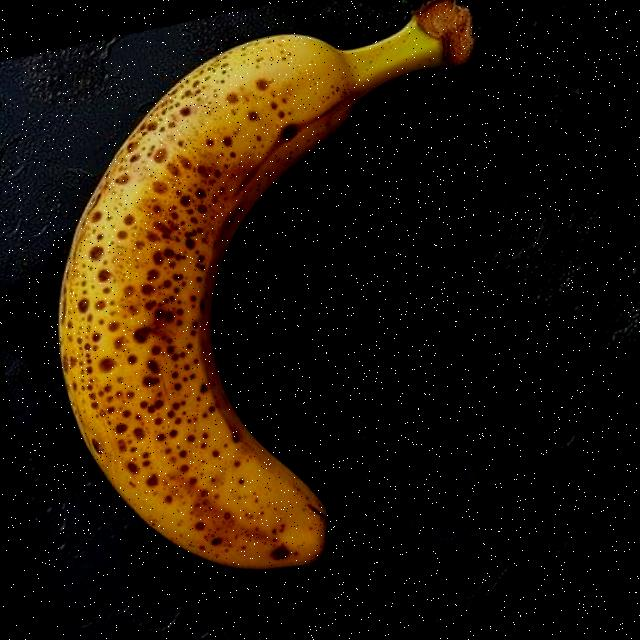Overripe: (0, 0, 585, 627)
